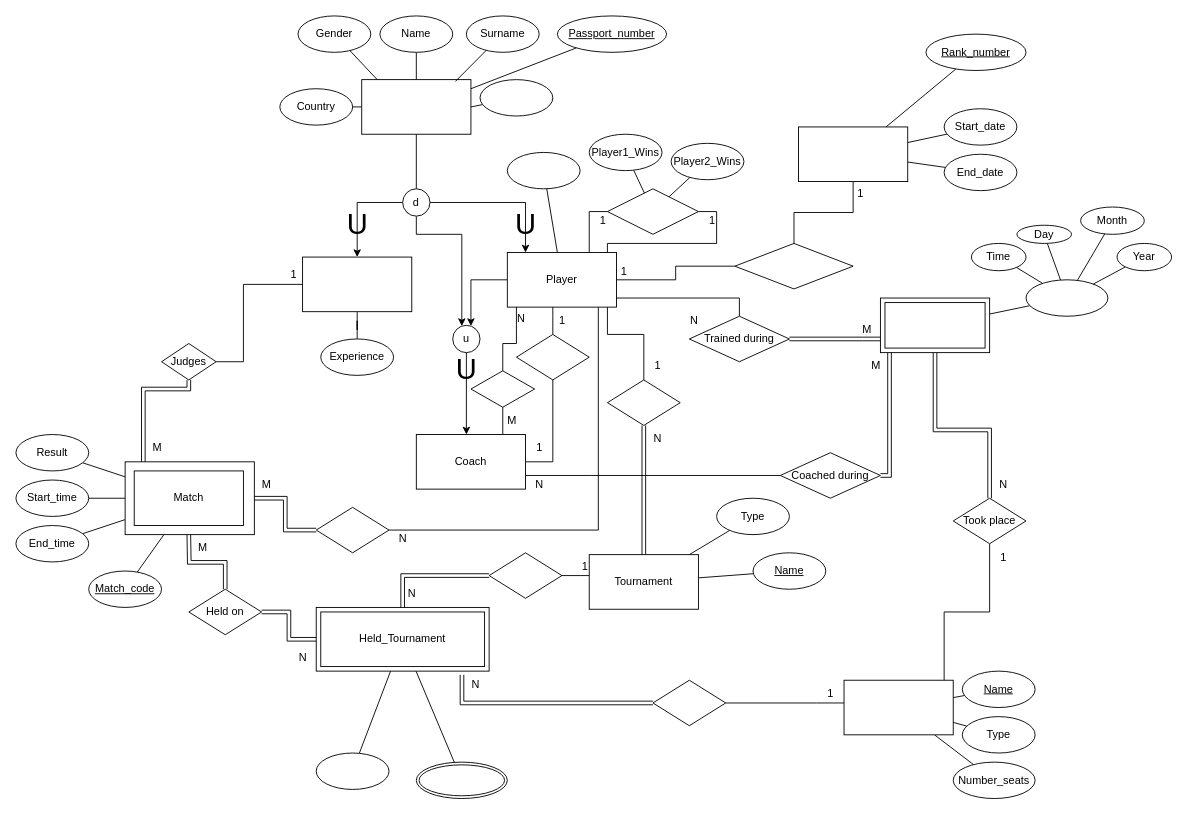
The diagram is 1188 pixels wide and 814 high, and some of its shapes have lost their labels. The centre of each missing label's shape, as x and y in pixels:
assigned_rank: the point at 793,266
Best Player: the point at 643,402
Birth_date: the point at 516,97
Coached: the point at 502,388
Date: the point at 1066,297
Held: the point at 525,575
Hosted: the point at 689,702
Participant: the point at 416,106
Period: the point at 352,770
Plays: the point at 352,529
Rank: the point at 853,154
Record_score: the point at 652,211
Refferee: the point at 357,284
Sponsors: the point at 461,780
Tennis_Court: the point at 898,707
Training Session: the point at 935,325
Was Player: the point at 552,357
Year_started: the point at 543,170
